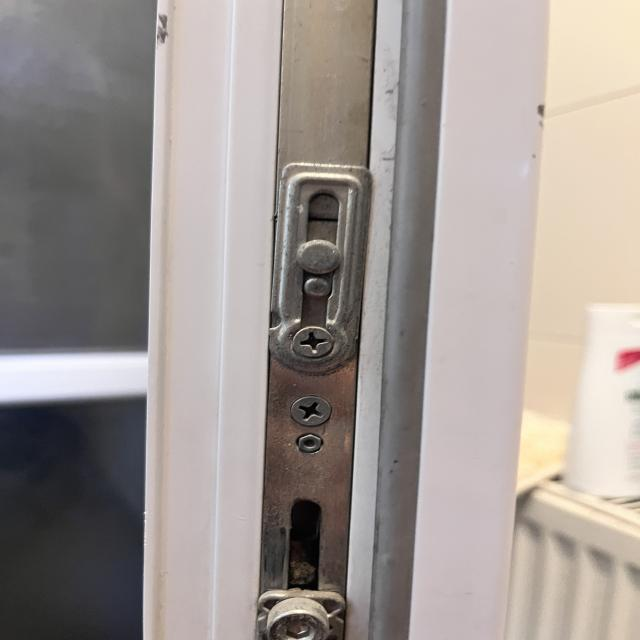allen: (298, 434, 322, 452)
phillips: (292, 326, 334, 358), (290, 396, 332, 426)
